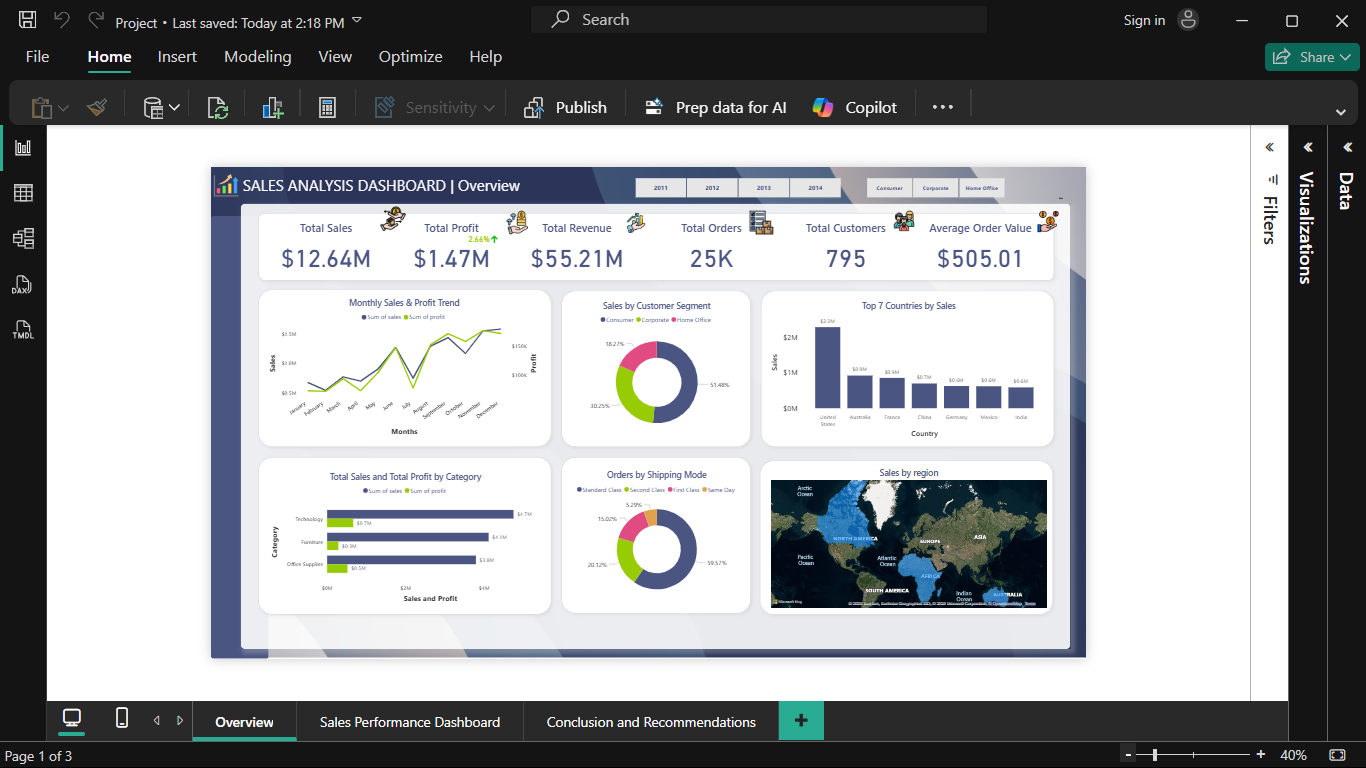

The page's visual inventory and layout, read from the dashboard file:
{"tool":"powerbi","page":{"name":"Overview","canvas":[1920,1080],"ordinal":0},"visuals":[{"type":"shape","box":[0,108.4,126.5,970.8],"z":0},{"type":"shape","box":[65,80,1820,977.5],"z":1000},{"type":"textbox","title":"SALES ANALYSIS DASHBOARD |  Overview","box":[65,17.5,1807.5,57.5],"z":2000},{"type":"shape","box":[92.5,90,1767.5,170],"z":3000},{"type":"card","title":"Total Sales","fields":{"Values":["Sum(SuperStoreOrders.sales)"]},"box":[115,110,275,130],"z":4000},{"type":"card","title":"Total Profit","fields":{"Values":["Sum(SuperStoreOrders.profit)"]},"box":[390,110,275,130],"z":5000},{"type":"card","title":"Total Revenue","fields":{"Values":["Sum(SuperStoreOrders.Revenue)"]},"box":[665,110,275,130],"z":6000},{"type":"card","title":"Total Orders","fields":{"Values":["SuperStoreOrders.TotalOrders"]},"box":[960,110,275,130],"z":7000},{"type":"card","title":"Total Customers","fields":{"Values":["Count(SuperStoreOrders.customer_name)"]},"box":[1255,110,275,130],"z":8000},{"type":"card","title":"Average Order Value","fields":{"Values":["SuperStoreOrders.AverageOrderValue"]},"box":[1550,110,275,130],"z":9000},{"type":"shape","box":[92.5,257.5,665,367.5],"z":10000},{"type":"shape","box":[1195,260,665,365],"z":11000},{"type":"shape","box":[757.5,260,437.5,365],"z":12000},{"type":"shape","box":[92.5,625,665,367.5],"z":13000},{"type":"shape","box":[1192.5,627.5,665,365],"z":14000},{"type":"shape","box":[757.5,625,437.5,365],"z":15000},{"type":"lineChart","title":"Monthly Sales & Profit Trend","fields":{"Y":["Sum(SuperStoreOrders.sales)"],"Y2":["Sum(SuperStoreOrders.profit)"],"Category":["SuperStoreOrders.order_date.Variation.Date Hierarchy.Month"]},"box":[122.5,280,602.5,315],"z":16000},{"type":"donutChart","title":"Sales by Customer Segment","fields":{"Category":["SuperStoreOrders.segment"],"Y":["Sum(SuperStoreOrders.sales)"]},"box":[800,285,355,315],"z":17000},{"type":"columnChart","title":"Top 7 Countries by Sales","fields":{"Category":["SuperStoreOrders.country"],"Y":["Sum(SuperStoreOrders.sales)"]},"box":[1221.4,285.7,615.7,314.3],"z":18000},{"type":"clusteredBarChart","title":"Total Sales and Total Profit by Category","fields":{"Category":["SuperStoreOrders.category"],"Y":["Sum(SuperStoreOrders.sales)","Sum(SuperStoreOrders.profit)"]},"box":[127.5,660,597.5,300],"z":19000},{"type":"donutChart","title":"Orders by Shipping Mode","fields":{"Category":["SuperStoreOrders.ship_mode"],"Y":["SuperStoreOrders.TotalOrders"]},"box":[782.5,657.5,390,302.5],"z":20000},{"type":"filledMap","title":"Sales by region","fields":{"Category":["SuperStoreOrders.region"]},"box":[1221.4,657.1,615.7,315.7],"z":21000},{"type":"slicer","fields":{"Values":["SuperStoreOrders.order_date.Variation.Date Hierarchy.Year"]},"box":[906,18,500,56],"z":22000},{"type":"slicer","fields":{"Values":["SuperStoreOrders.segment"]},"box":[1412,18,352,56],"z":23000},{"type":"card","title":"Profit Margin","fields":{"Values":["SuperStoreOrders.Profit Margin %"]},"box":[545,143.3,85,31.7],"z":24000},{"type":"image","box":[906,70,54,106],"z":25000},{"type":"image","box":[0,0,66,80],"z":26000},{"type":"image","box":[634,90,72,64],"z":27000},{"type":"image","box":[364,76,68,78],"z":28000},{"type":"image","box":[1172,90,70,64],"z":29000},{"type":"image","box":[1490,90,60,56],"z":30000},{"type":"image","box":[1806,84,60,70],"z":31000},{"type":"image","box":[604,134,32,46],"z":32000}]}

Visuals, with their boxes on the page's 1920x1080 design canvas (x1, y1, x2, y2). These are canvas units, not pixel positions in the 1366x768 screenshot, which may show the page scaled, cropped or inside an application window:
shape: box=[0, 108, 126, 1079]
shape: box=[65, 80, 1885, 1058]
"SALES ANALYSIS DASHBOARD |  Overview" textbox: box=[65, 18, 1872, 75]
shape: box=[92, 90, 1860, 260]
"Total Sales" card: box=[115, 110, 390, 240]
"Total Profit" card: box=[390, 110, 665, 240]
"Total Revenue" card: box=[665, 110, 940, 240]
"Total Orders" card: box=[960, 110, 1235, 240]
"Total Customers" card: box=[1255, 110, 1530, 240]
"Average Order Value" card: box=[1550, 110, 1825, 240]
shape: box=[92, 258, 758, 625]
shape: box=[1195, 260, 1860, 625]
shape: box=[758, 260, 1195, 625]
shape: box=[92, 625, 758, 992]
shape: box=[1192, 628, 1858, 992]
shape: box=[758, 625, 1195, 990]
"Monthly Sales & Profit Trend" lineChart: box=[122, 280, 725, 595]
"Sales by Customer Segment" donutChart: box=[800, 285, 1155, 600]
"Top 7 Countries by Sales" columnChart: box=[1221, 286, 1837, 600]
"Total Sales and Total Profit by Category" clusteredBarChart: box=[128, 660, 725, 960]
"Orders by Shipping Mode" donutChart: box=[782, 658, 1172, 960]
"Sales by region" filledMap: box=[1221, 657, 1837, 973]
slicer - SuperStoreOrders.order_date.Variation.Date Hierarchy.Year: box=[906, 18, 1406, 74]
slicer - SuperStoreOrders.segment: box=[1412, 18, 1764, 74]
"Profit Margin" card: box=[545, 143, 630, 175]
image: box=[906, 70, 960, 176]
image: box=[0, 0, 66, 80]
image: box=[634, 90, 706, 154]
image: box=[364, 76, 432, 154]
image: box=[1172, 90, 1242, 154]
image: box=[1490, 90, 1550, 146]
image: box=[1806, 84, 1866, 154]
image: box=[604, 134, 636, 180]
